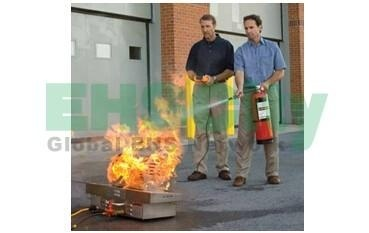fire: (100, 81, 198, 192)
